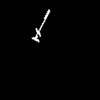double_crochet: (32, 10, 49, 41)
